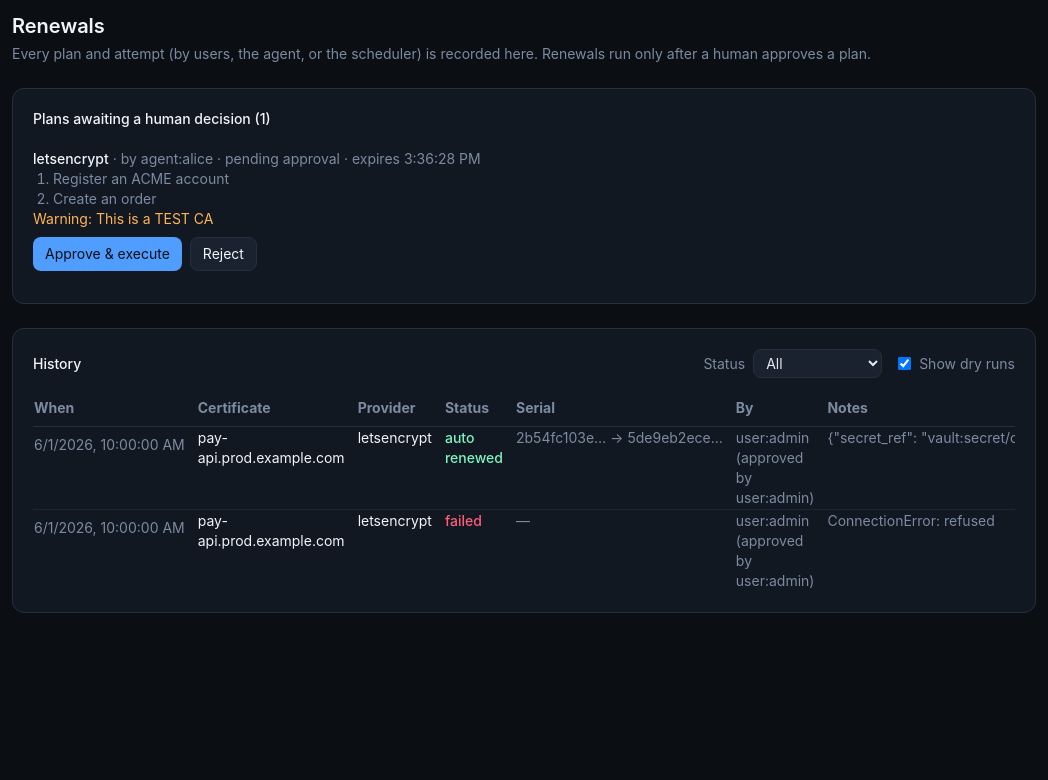
Test: Renewals: plans awaiting a human decision › shows the server refusal (for example an expired approval) and refreshes
Click the button "Approve & execute": (107, 254) [33,237,182,271]
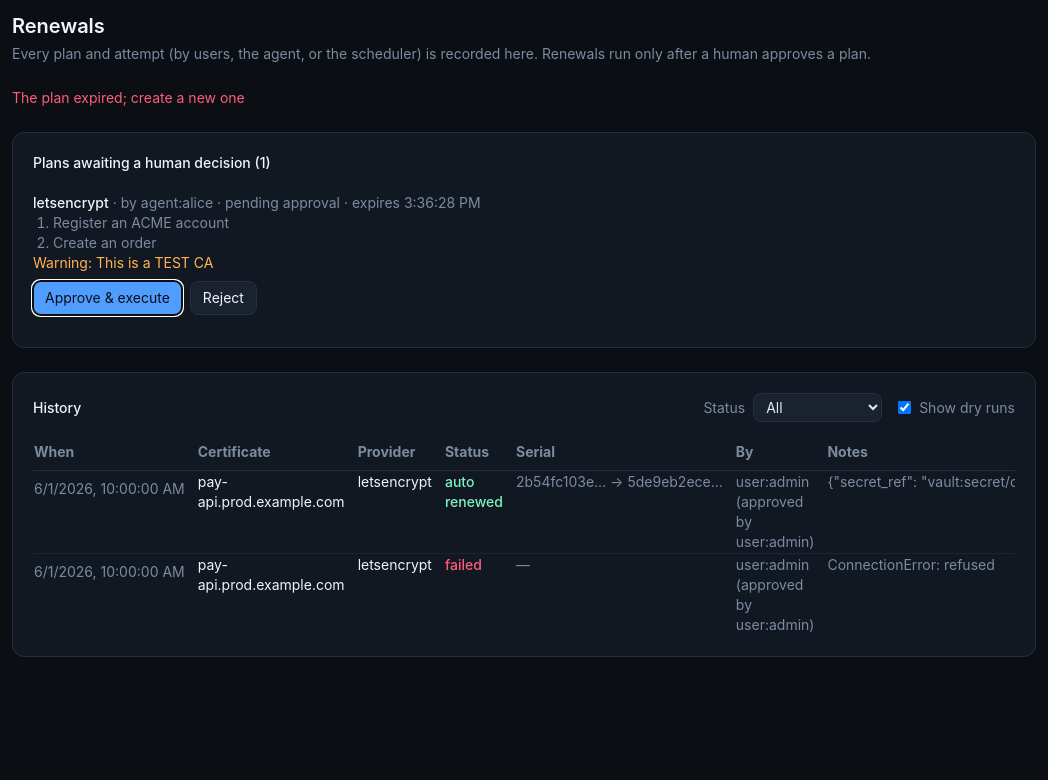
Check: the message shows "The plan expired", box [12,89,245,106]
